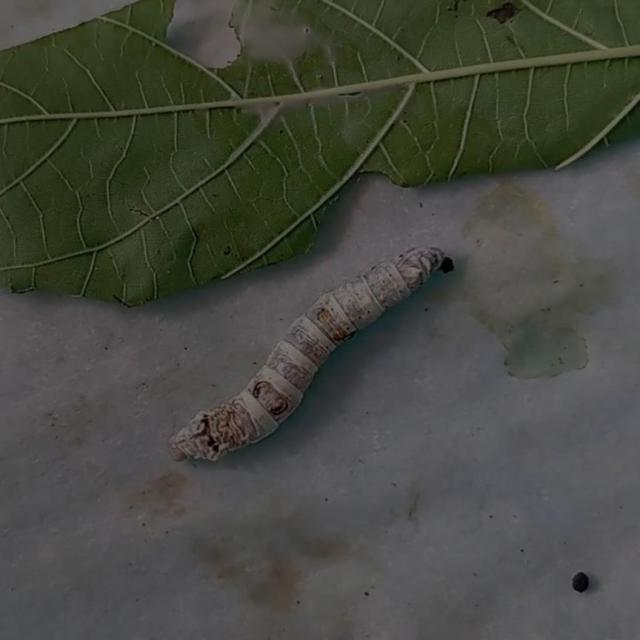Grasserie: (148, 203, 482, 498)
